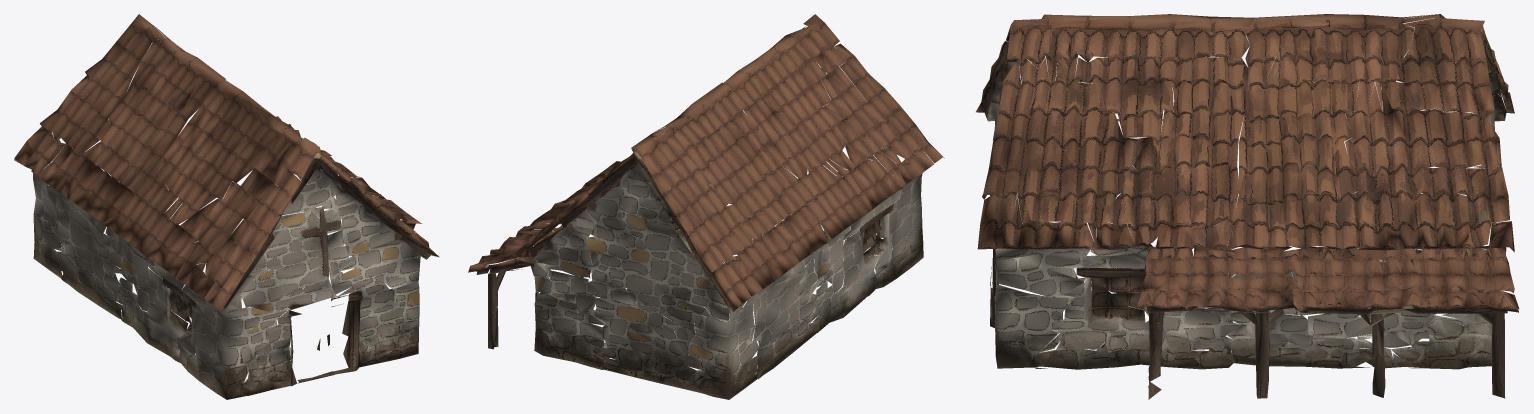
The model's file is capilla.glb.
The picture shows the model from 3 angles, left to right: view 1: azimuth 30°, elevation 25°; view 2: azimuth 150°, elevation 25°; view 3: azimuth 270°, elevation 25°; orthographic projection. The views are drawn at different scales.
Visible parts, largest first — view 1: tripo_node_0e163cbe-8ab7-4d55-ad7c-b3880889a425; view 2: tripo_node_0e163cbe-8ab7-4d55-ad7c-b3880889a425; view 3: tripo_node_0e163cbe-8ab7-4d55-ad7c-b3880889a425.
Boxes of the visible parts, x1=… form: tripo_node_0e163cbe-8ab7-4d55-ad7c-b3880889a425: x1=14, y1=14, x2=439, y2=399; tripo_node_0e163cbe-8ab7-4d55-ad7c-b3880889a425: x1=468, y1=14, x2=944, y2=399; tripo_node_0e163cbe-8ab7-4d55-ad7c-b3880889a425: x1=976, y1=14, x2=1519, y2=399.
Size of the model in its own units: 1.23 by 0.997 by 1.67.
Materials: 1 (1 with a texture image).
